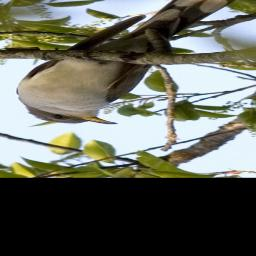Cuckoo: (15, 0, 248, 125)
